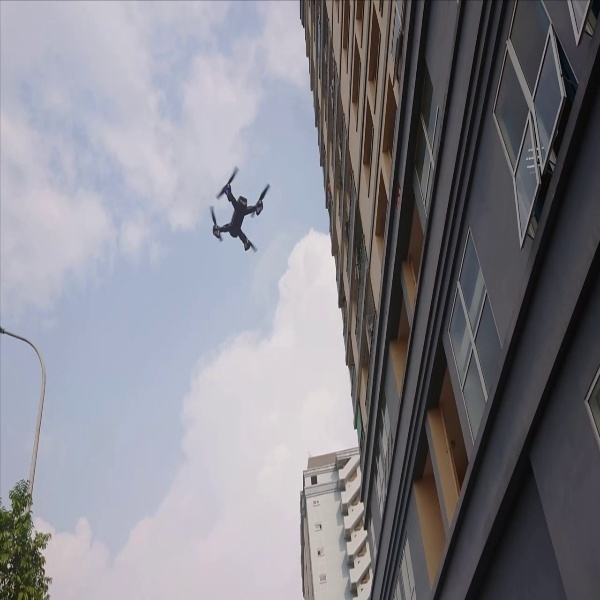drone: (193, 160, 276, 261)
